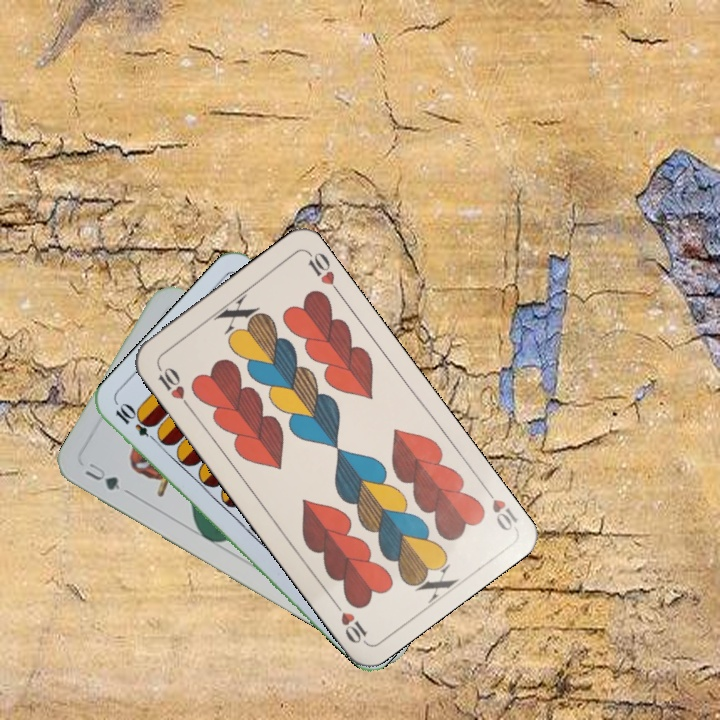E10: (111, 400, 163, 447)
GU: (81, 458, 123, 493)
H10: (478, 481, 521, 534), (153, 361, 194, 412)
